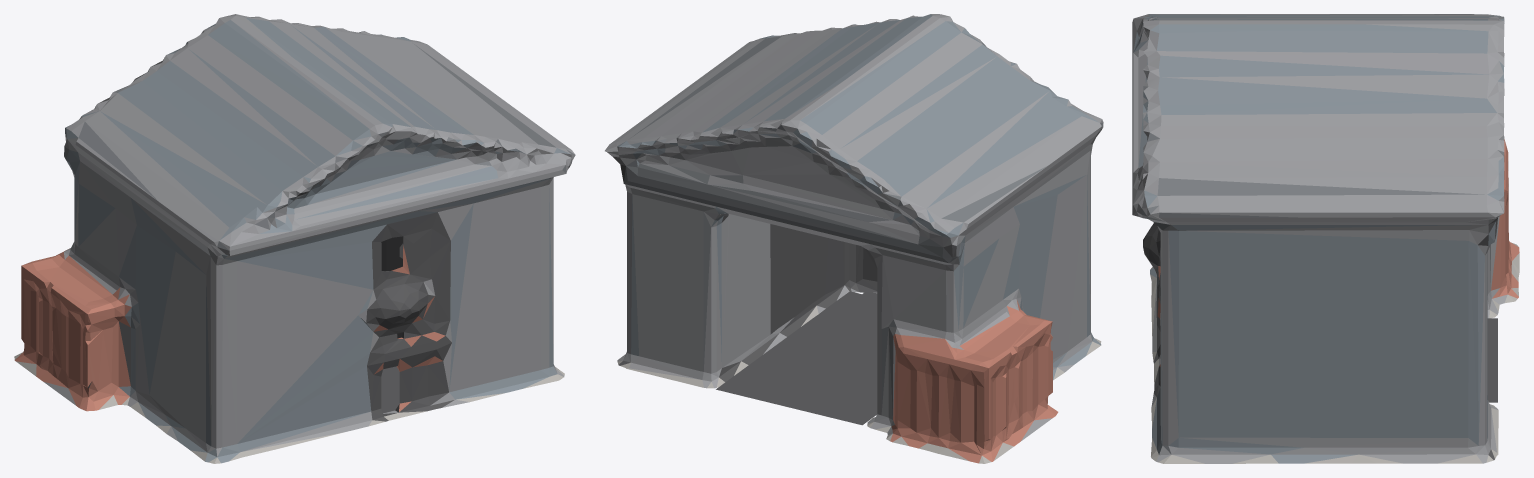
3 renders of one model, left to right at view 1: azimuth 30°, elevation 25°; view 2: azimuth 150°, elevation 25°; view 3: azimuth 270°, elevation 25°, orthographic. The views are drawn at different scales.
Parts seen in each view (by area): view 1: geometry_0; view 2: geometry_0; view 3: geometry_0.
Boxes of the visible parts, x1,y1,x2,y2 form: geometry_0: (14,14,575,463); geometry_0: (605,14,1103,463); geometry_0: (1132,14,1519,463).
Size of the model in its own units: 0.9602 by 0.6721 by 0.6999.
